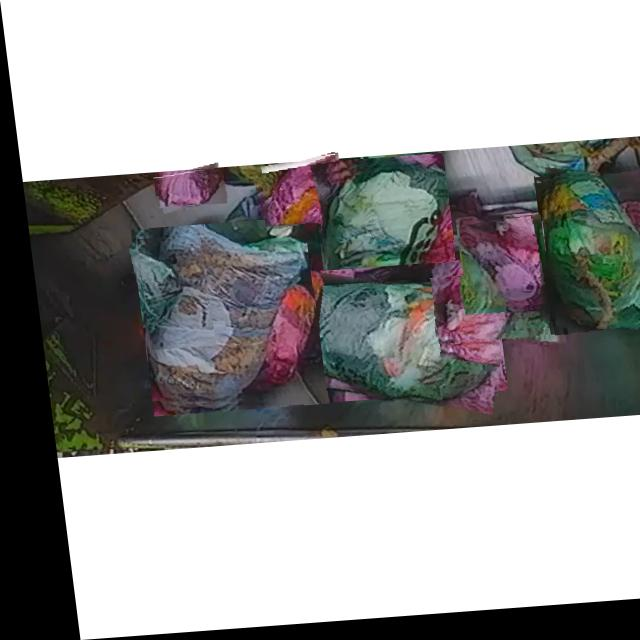general_trashbag: (136, 227, 300, 406), (451, 229, 575, 313), (427, 273, 546, 348), (140, 236, 193, 350), (259, 158, 334, 229), (150, 173, 216, 209)
other_trashbag: (270, 289, 490, 407), (536, 182, 640, 337), (315, 166, 441, 274)
